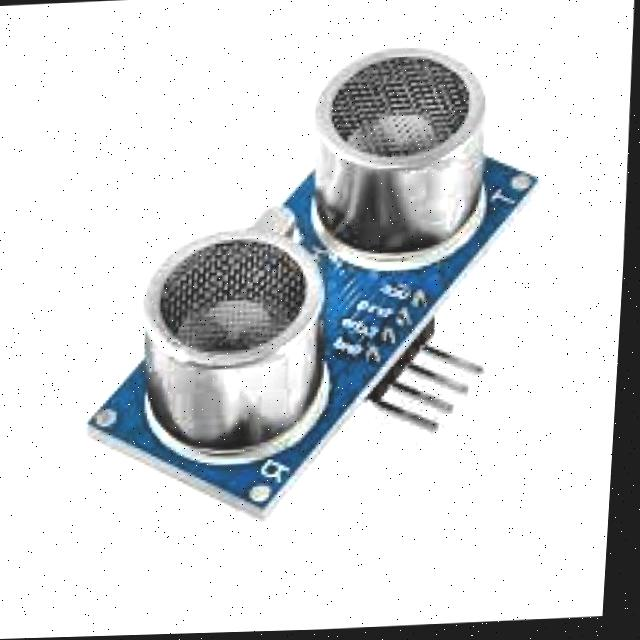Ultrasonic Sensor: (15, 2, 630, 576)
